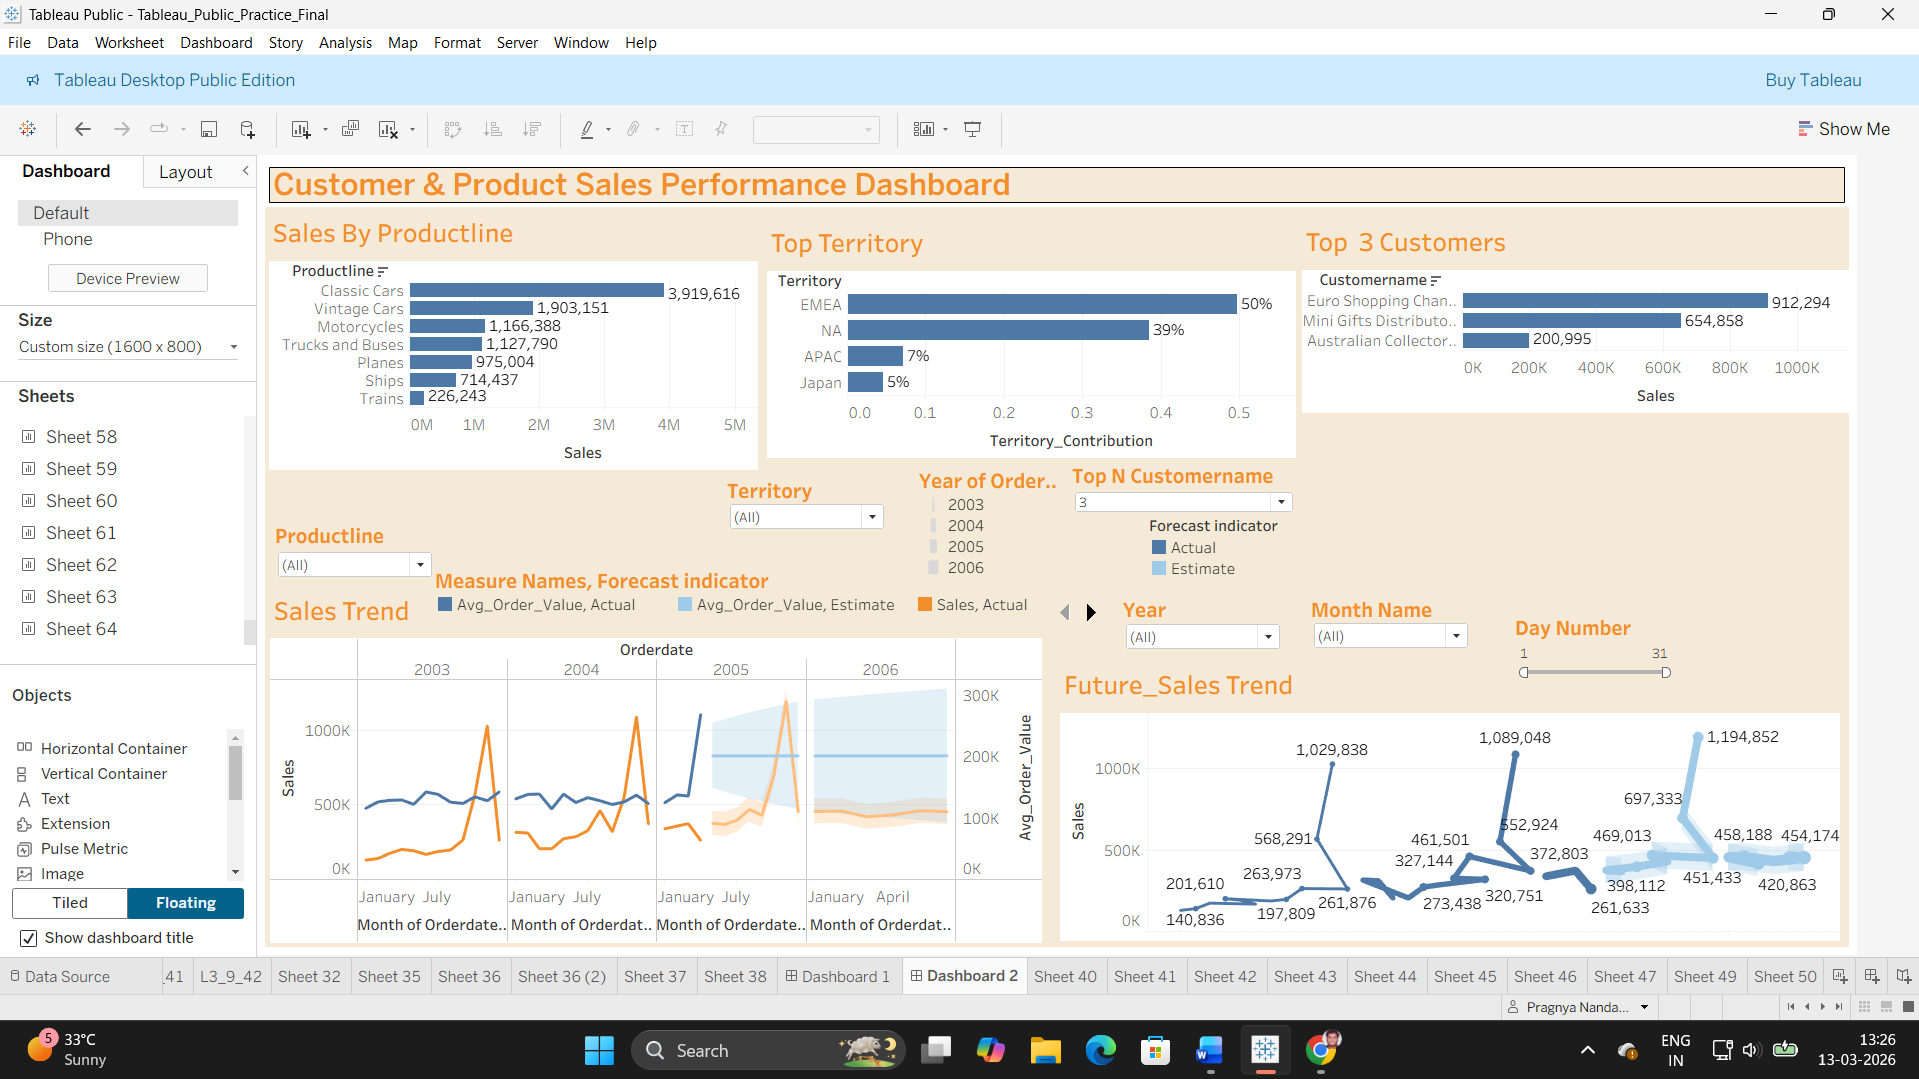

Layout of this report page (visuals, bound fields, positions):
{"tool":"tableau","page":{"name":"Dashboard 2","canvas":[1600,800],"ordinal":1},"visuals":[{"type":"title","box":[8,8,1584,44]},{"type":"worksheet","title":"Sheet 37","mark":"Automatic","rows":["PRODUCTLINE"],"cols":["SALES"],"box":[8,52,1584,387]},{"type":"worksheet","title":"Sheet 38","mark":"Automatic","rows":["CUSTOMERNAME"],"cols":["SALES"],"box":[1045,65,548,337]},{"type":"worksheet","title":"L3_9_42","mark":"Automatic","rows":["TERRITORY"],"box":[510,66,529,239]},{"type":"parameter","param":"[Parameters].[Parameter 1]","box":[815,306,224,56]},{"type":"legend","title":"Sheet 36","param":"[federated.0wtqqmt0pq1bgl1bef5ex0yiscwp].[yr:Orderdate.1 (copy 2)_09192367495004","box":[662,311,140,125]},{"type":"filter","title":"L3_9_42","param":"[federated.0wtqqmt0pq1bgl1bef5ex0yiscwp].[none:TERRITORY:nk]","box":[470,321,160,54]},{"type":"legend","title":"Sheet 36","param":"[federated.0wtqqmt0pq1bgl1bef5ex0yiscwp].[none:Forecast Indicator:nk]","box":[892,360,140,64]},{"type":"filter","title":"L3_9_42","param":"[federated.0wtqqmt0pq1bgl1bef5ex0yiscwp].[none:PRODUCTLINE:nk]","box":[18,366,160,65]},{"type":"legend","title":"Sheet 36 (2)","param":"[federated.0wtqqmt0pq1bgl1bef5ex0yiscwp].[:Measure Names]\n[federated.0wtqqmt0pq1","box":[178,411,671,64]},{"type":"worksheet","title":"Sheet 36 (2)","mark":"Automatic","rows":["SALES","Calculation_3219964429791232"],"cols":["Orderdate.1 (copy 2)_0919236749500417","Orderdate.1 (copy 2)_0919236749500417"],"box":[13,434,773,354]},{"type":"filter","title":"Sheet 36","param":"[federated.0wtqqmt0pq1bgl1bef5ex0yiscwp].[yr:Orderdate.1 (copy 2)_09192367495004","box":[866,440,160,56]},{"type":"filter","title":"Sheet 36","param":"[federated.0wtqqmt0pq1bgl1bef5ex0yiscwp].[none:MONTH_NAME:nk]","box":[1054,440,160,54]},{"type":"filter","title":"Sheet 36","param":"[federated.0wtqqmt0pq1bgl1bef5ex0yiscwp].[dy:Orderdate.1 (copy 2)_09192367495004","box":[1258,458,160,65]},{"type":"worksheet","title":"Sheet 36","mark":"Automatic","rows":["SALES"],"cols":["Orderdate.1 (copy 2)_0919236749500417"],"box":[803,508,780,278]}]}

Visuals, with their boxes on the page's 1600x800 design canvas (x1, y1, x2, y2). These are canvas units, not pixel positions in the 1919x1079 screenshot, which may show the page scaled, cropped or inside an application window:
title: BBox(8, 8, 1592, 52)
"Sheet 37" worksheet: BBox(8, 52, 1592, 439)
"Sheet 38" worksheet: BBox(1045, 65, 1593, 402)
"L3_9_42" worksheet: BBox(510, 66, 1039, 305)
parameter: BBox(815, 306, 1039, 362)
"Sheet 36" legend: BBox(662, 311, 802, 436)
"L3_9_42" filter: BBox(470, 321, 630, 375)
"Sheet 36" legend: BBox(892, 360, 1032, 424)
"L3_9_42" filter: BBox(18, 366, 178, 431)
"Sheet 36 (2)" legend: BBox(178, 411, 849, 475)
"Sheet 36 (2)" worksheet: BBox(13, 434, 786, 788)
"Sheet 36" filter: BBox(866, 440, 1026, 496)
"Sheet 36" filter: BBox(1054, 440, 1214, 494)
"Sheet 36" filter: BBox(1258, 458, 1418, 523)
"Sheet 36" worksheet: BBox(803, 508, 1583, 786)
